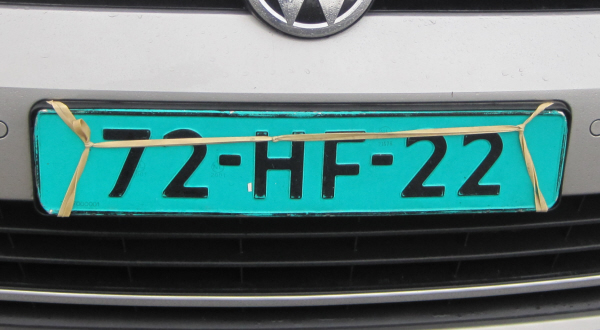license_plate: (33, 109, 568, 215)
